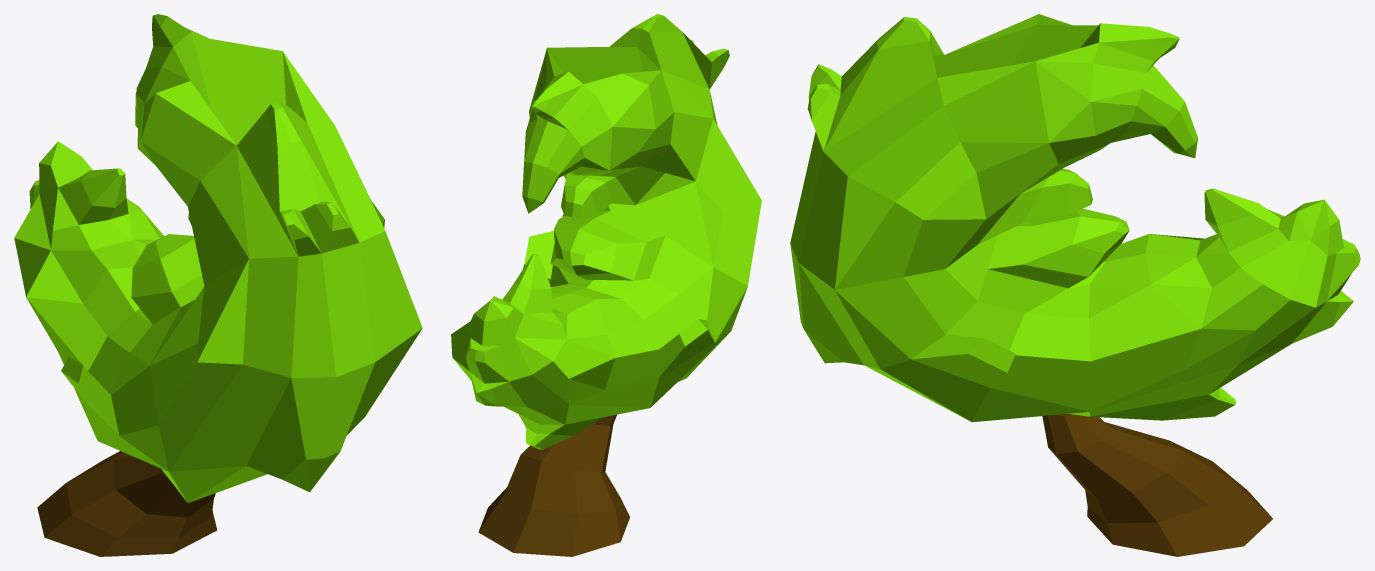
The model's file is GEO_tree_cloudy.fbx.
3 views of the same model, side by side, from view 1: azimuth 30°, elevation 25°; view 2: azimuth 150°, elevation 25°; view 3: azimuth 270°, elevation 25° (orthographic). The views are drawn at different scales.
Visible parts, largest first — view 1: GEO_tree_cloudy; view 2: GEO_tree_cloudy; view 3: GEO_tree_cloudy.
Part boxes in pixels (x1,y1,x2,y2): GEO_tree_cloudy: [14, 14, 422, 556]; GEO_tree_cloudy: [451, 14, 761, 556]; GEO_tree_cloudy: [790, 14, 1360, 556].
Bounding box in the file's own units: 152 × 294 × 301.
